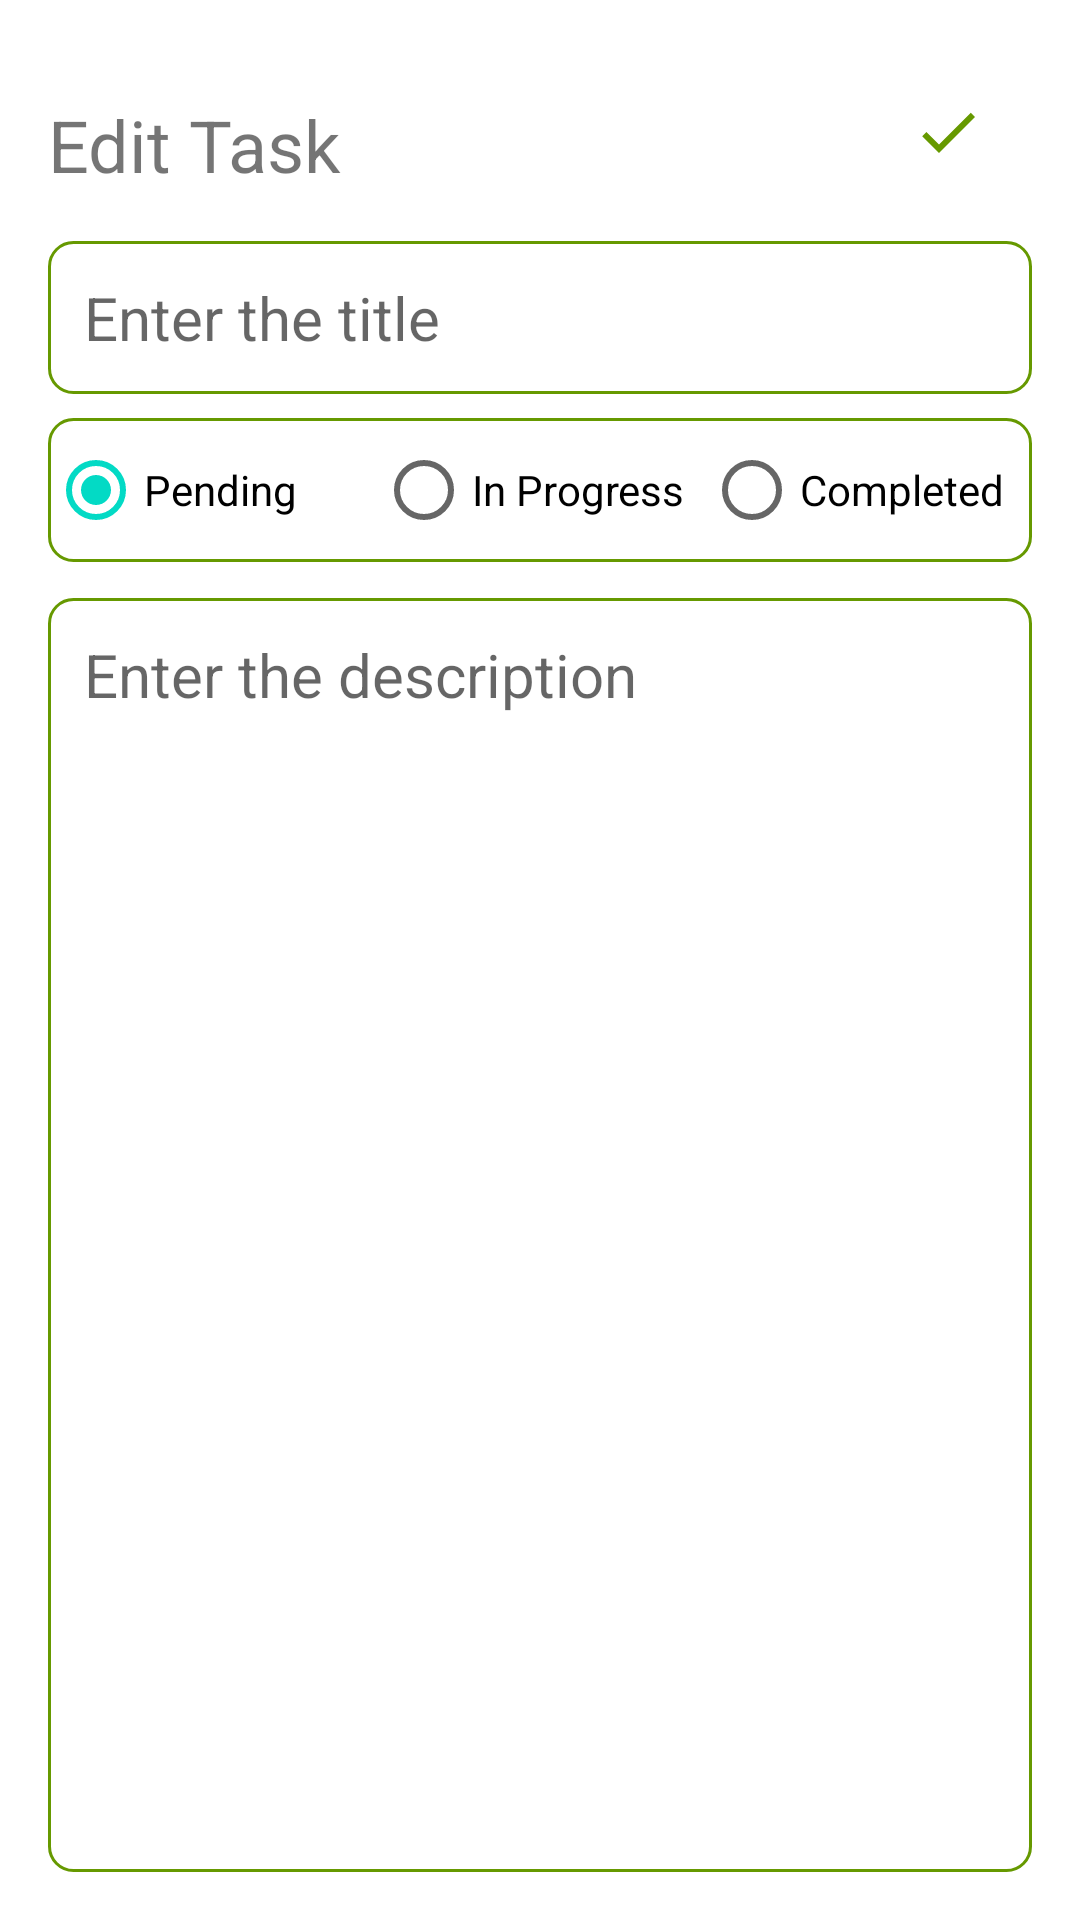

Point at icon controls on the screen. Image size 1080 × 1920, points as (x,y).
done: (948,133)
